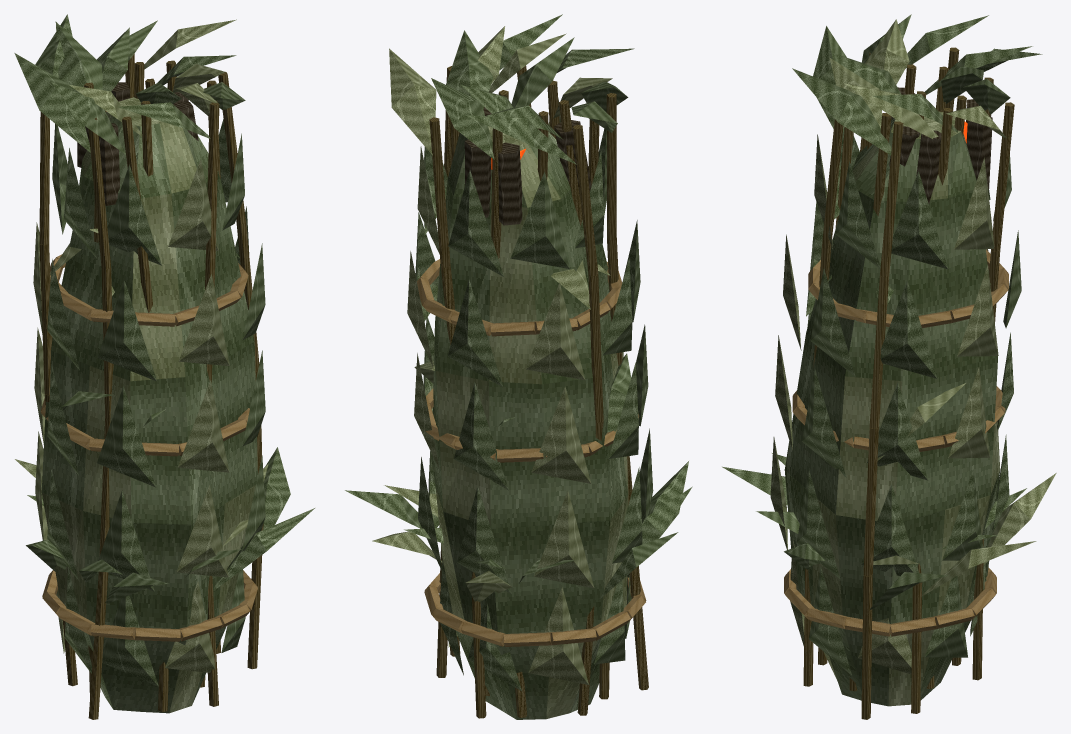
Rendered from blender_incense_2_burning.glb.
The picture shows the model from 3 angles, left to right: view 1: azimuth 30°, elevation 25°; view 2: azimuth 150°, elevation 25°; view 3: azimuth 270°, elevation 25°; orthographic projection. The views are drawn at different scales.
Parts seen in each view (by area): view 1: blender_incense_2_burning; view 2: blender_incense_2_burning; view 3: blender_incense_2_burning.
Part boxes in pixels (x1,y1,x2,y2): blender_incense_2_burning: [14, 14, 314, 719]; blender_incense_2_burning: [345, 14, 692, 719]; blender_incense_2_burning: [722, 14, 1056, 719].
Size of the model in its own units: 0.0971 by 0.203 by 0.0983.
6 materials, 6 textured.
